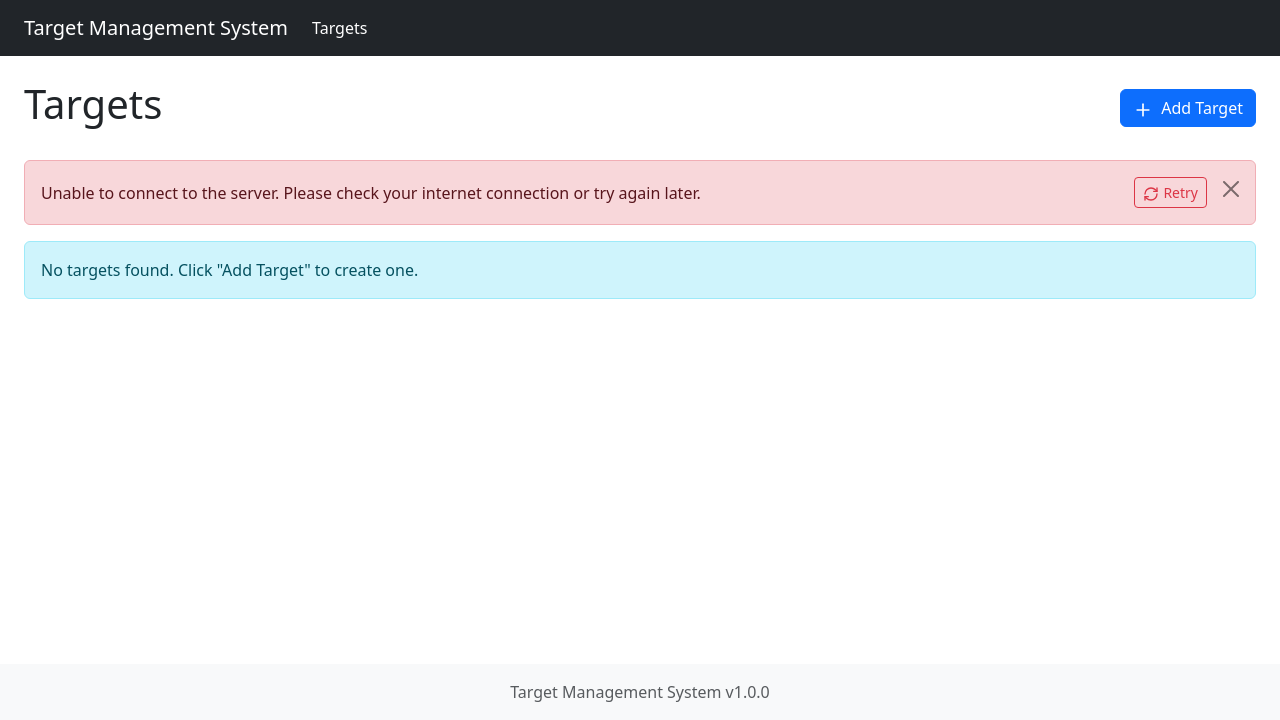
Test: Target Management › Add Target › opens add target modal
The width and height of the screenshot is (1280, 720).
Check: the heading "Targets" is shown, box [24,80,162,128]
Click the button "Add Target" at (1188, 108), box [1120,89,1256,127]
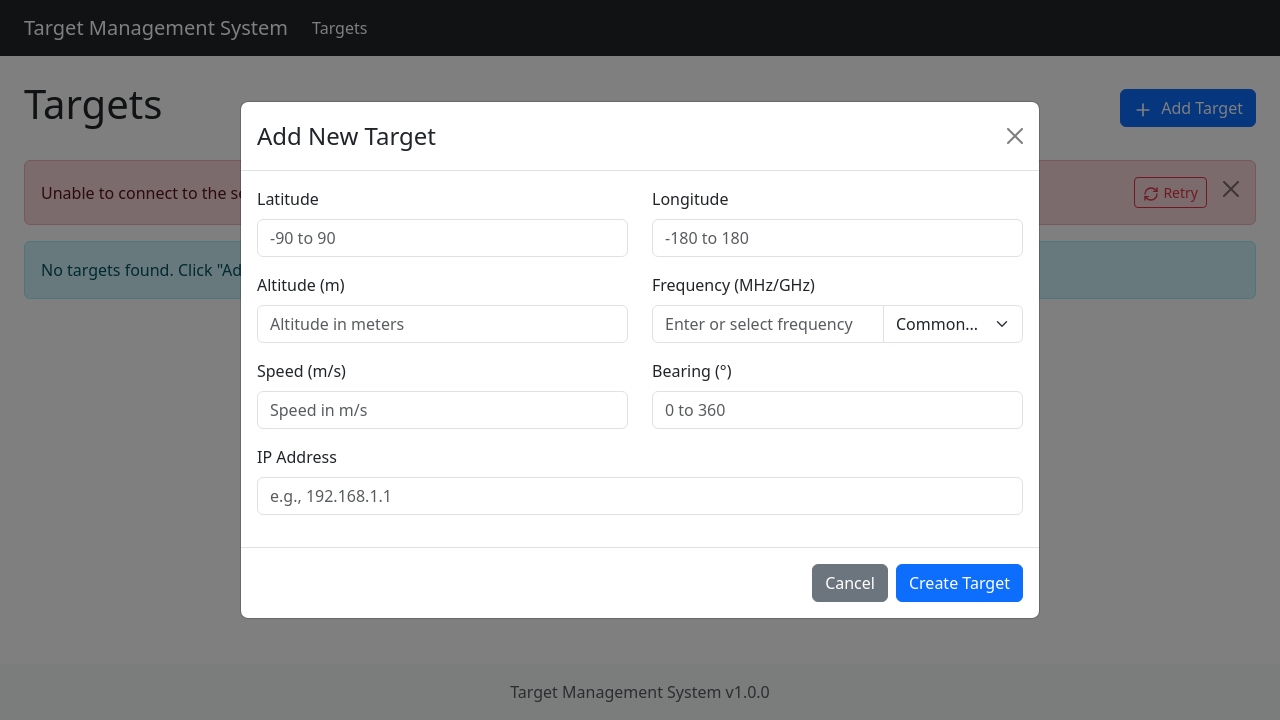
Check: the text "Add New Target" is shown, box [257,118,436,154]
